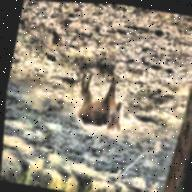boar: (66, 66, 146, 151)
